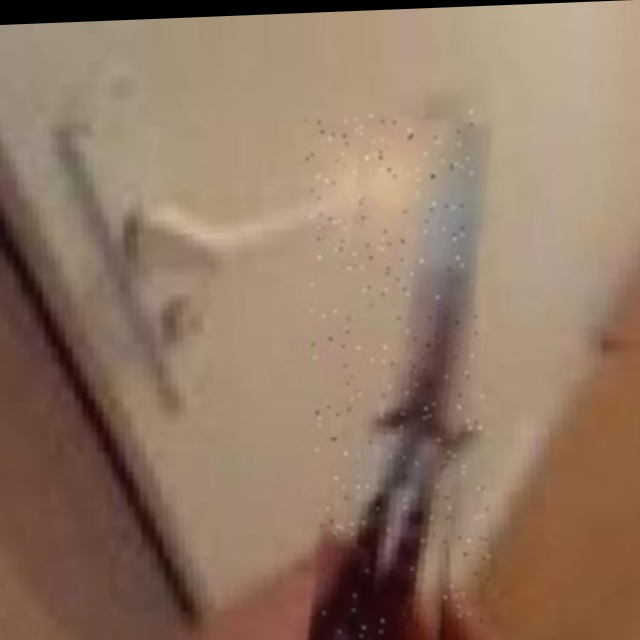Sharp-Object: (303, 110, 493, 640)
